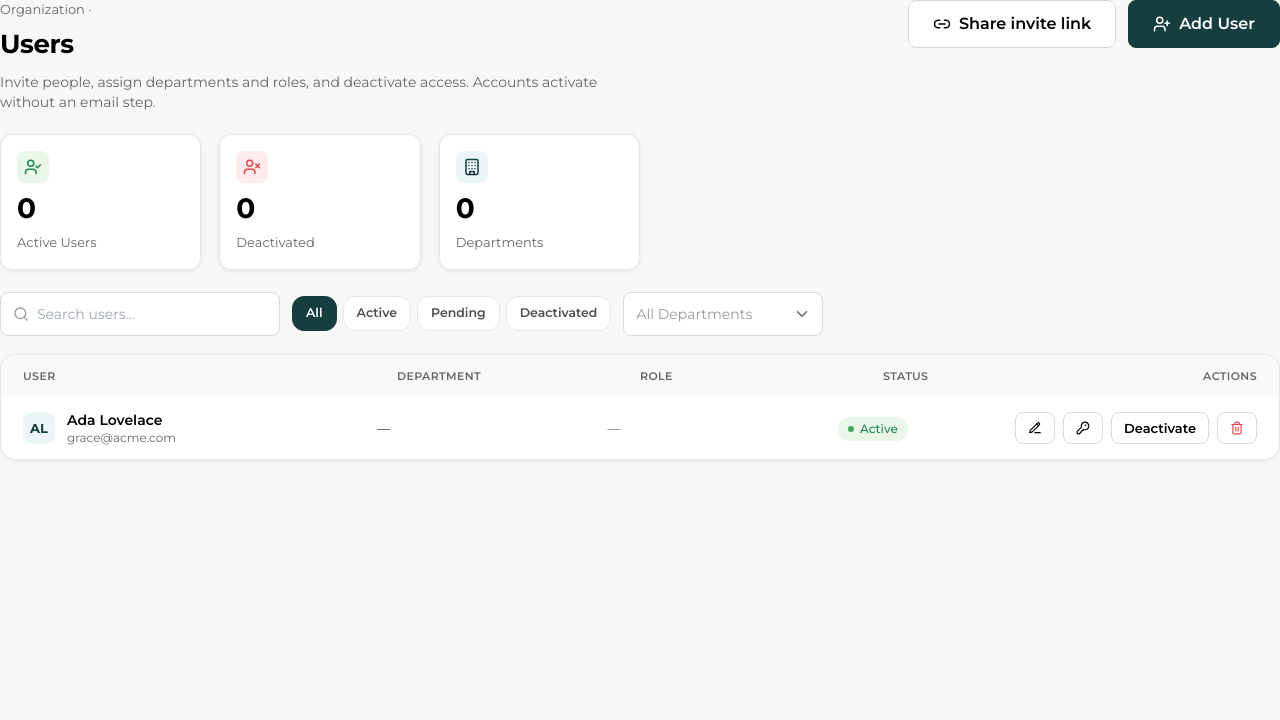
Test: Remove succeeds and reloads the list
This screenshot has width=1280, height=720.
Expected: the text "Ada Lovelace" is shown, [67,410,176,430]
Click the button named "Remove Ada Lovelace" at [1237, 428], box [1217,412,1257,444]
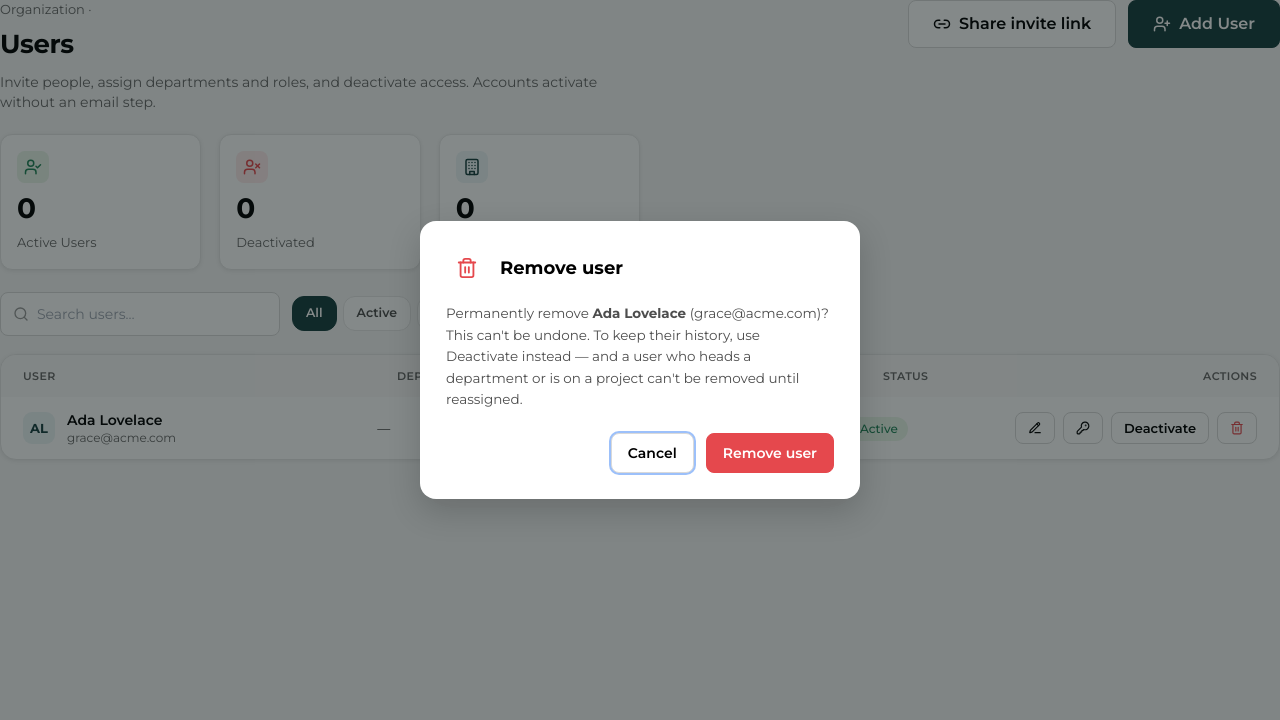
Click the button "Remove user" at [770, 453], box [706,433,834,473]
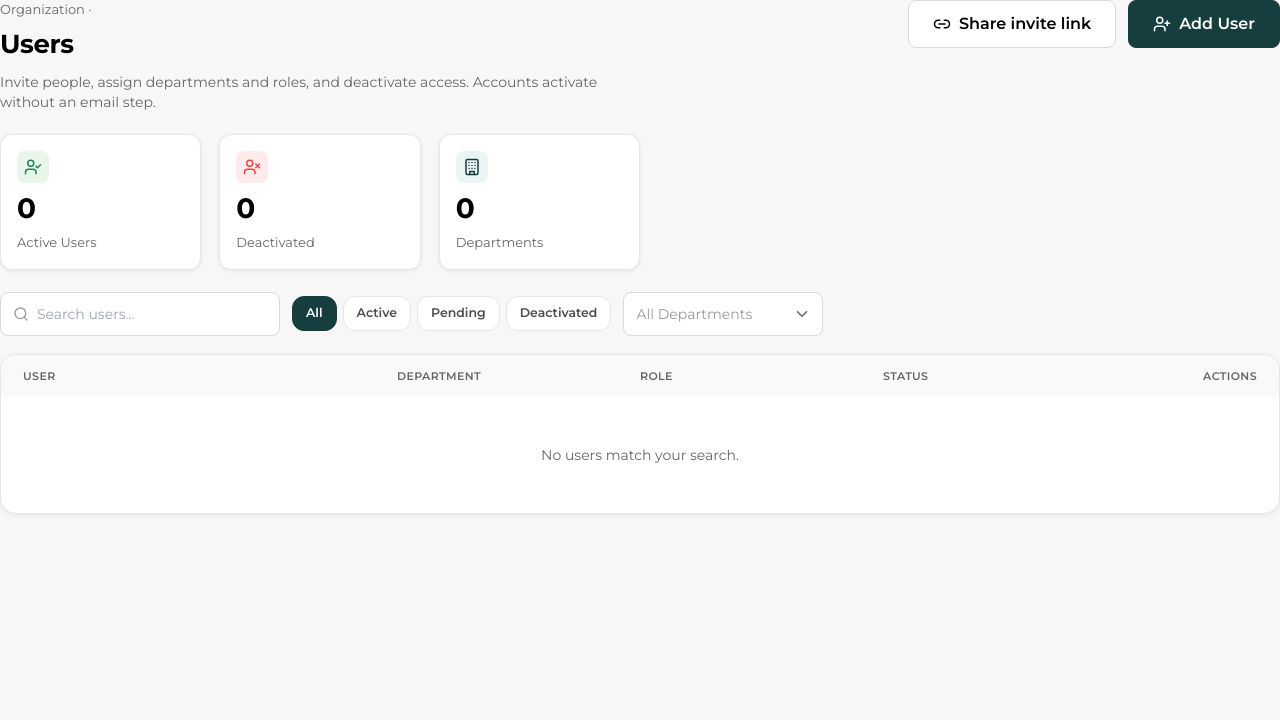
Expected: the text "No users match your search." is shown, [541,446,739,464]
